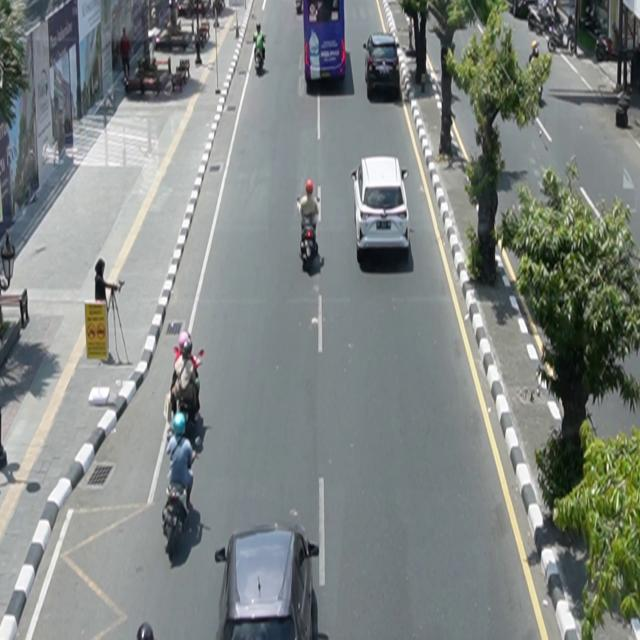car: (215, 522, 320, 640), (352, 156, 411, 262), (304, 1, 347, 85), (364, 33, 401, 99)
